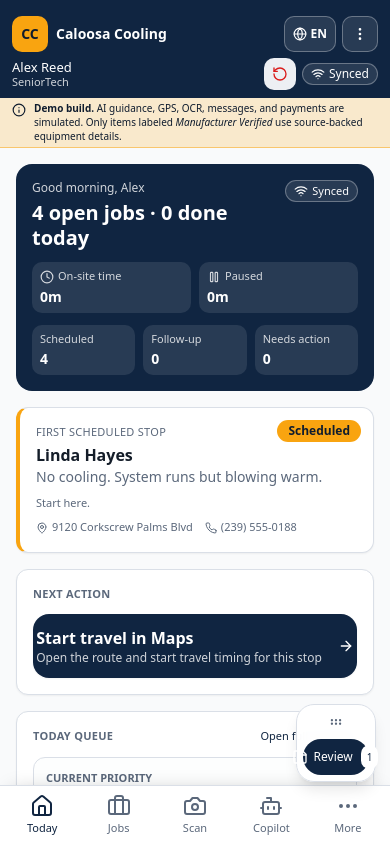
Scenario: migration baseline › shows draft-not-submitted handoff copy even when earlier notes were already sent
The width and height of the screenshot is (390, 844).
Click the button with aria-label "review layer".
click(336, 757)  # box [303,739,369,775]
(page scrolled)
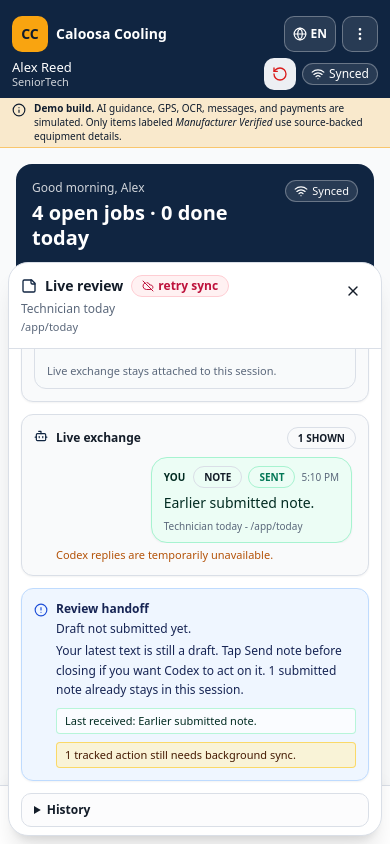
expect the text "Review handoff" is shown: met, box [56,600,149,617]
expect the text "Draft not submitted yet." is shown: met, box [56,620,191,637]
expect the text "1 submitted note already stays in this session" is shown: met, box [56,642,342,698]
